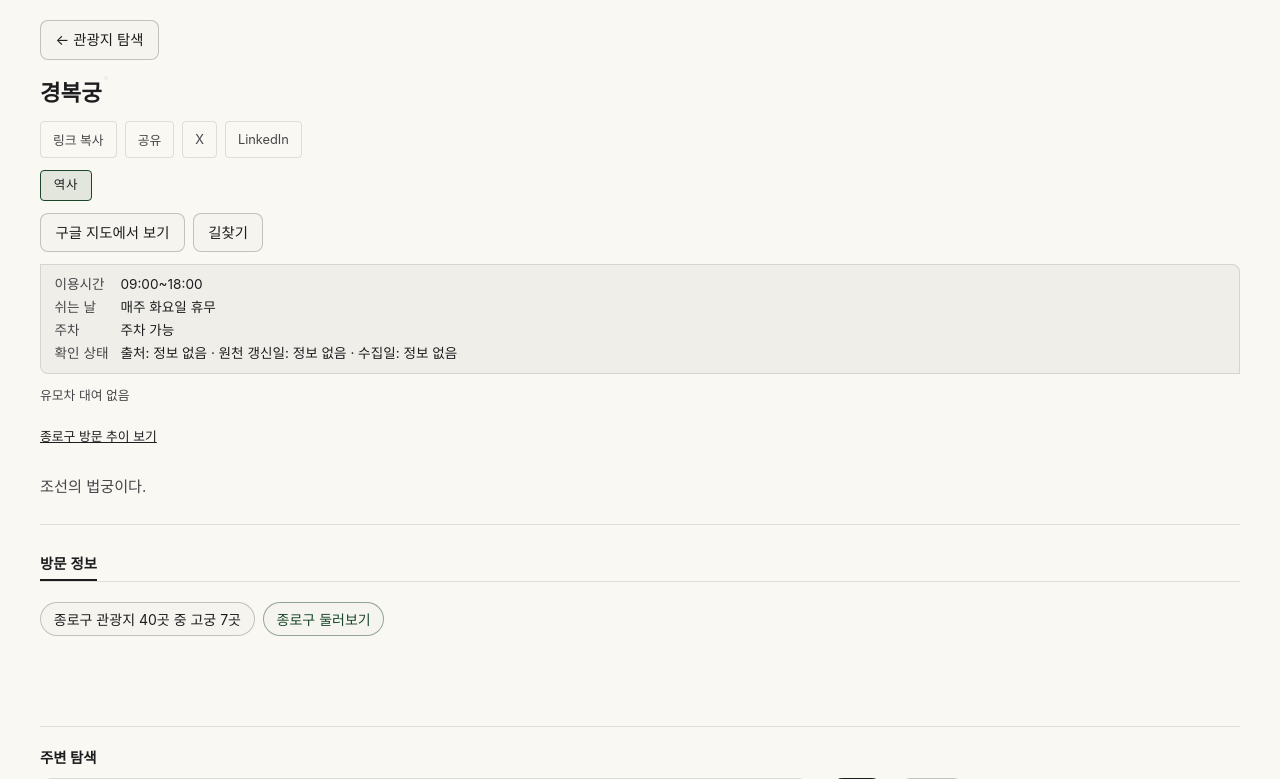
Scenario: AttractionPage 새 섹션 › 지역 문구와 시군구 허브 링크를 그리고, 같은 분류 가까운 곳은 주변 탐색 줄에 표시로 남긴다
What coordinates should you click on to do the following:
click the tab "방문 정보"
I would click on:
 (68, 563)
Its box is [40,546,97,581].
(page scrolled)
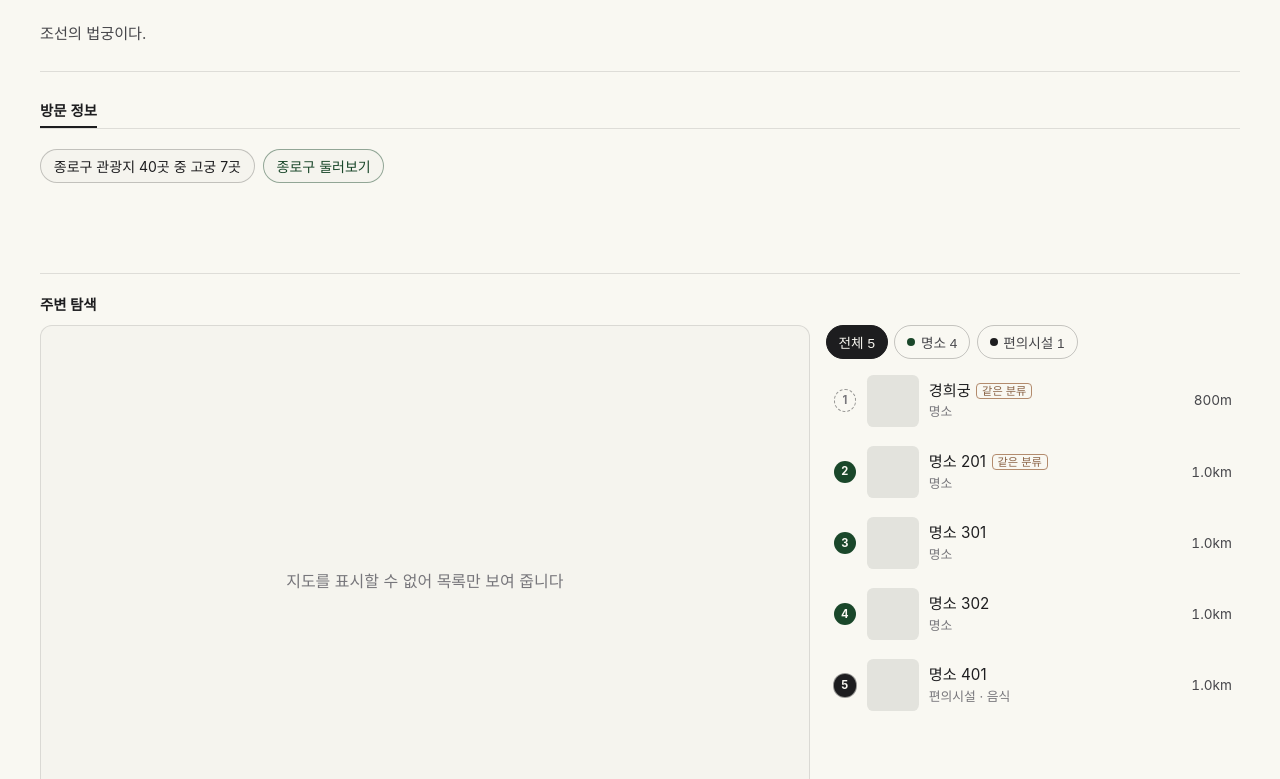
Expected: the list item "종로구 관광지 40곳 중 고궁 7곳" is shown, [40,149,255,183]
Now the text "명소 401" is shown, box [929,665,987,684]
